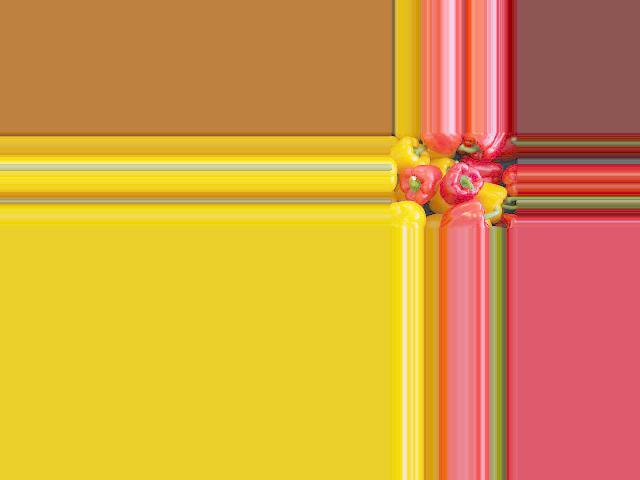bell_pepper: (390, 139, 426, 170)
